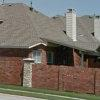Chimney: (60, 4, 86, 46)
